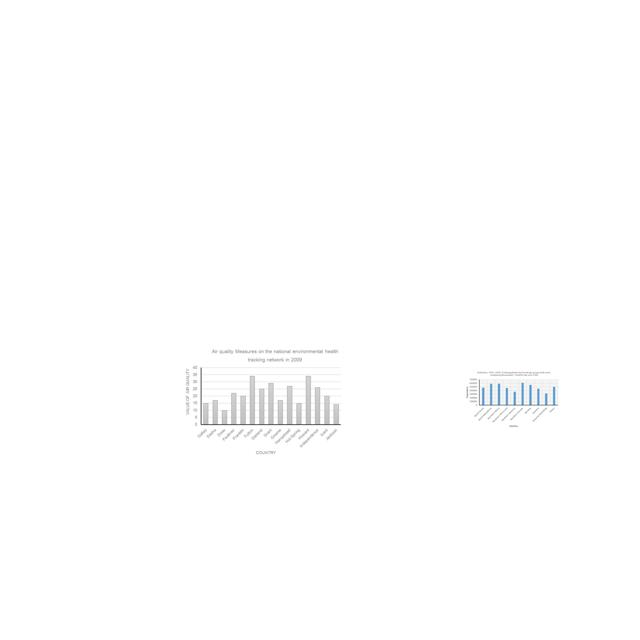Graph: (182, 344, 344, 458), (463, 370, 560, 428)
